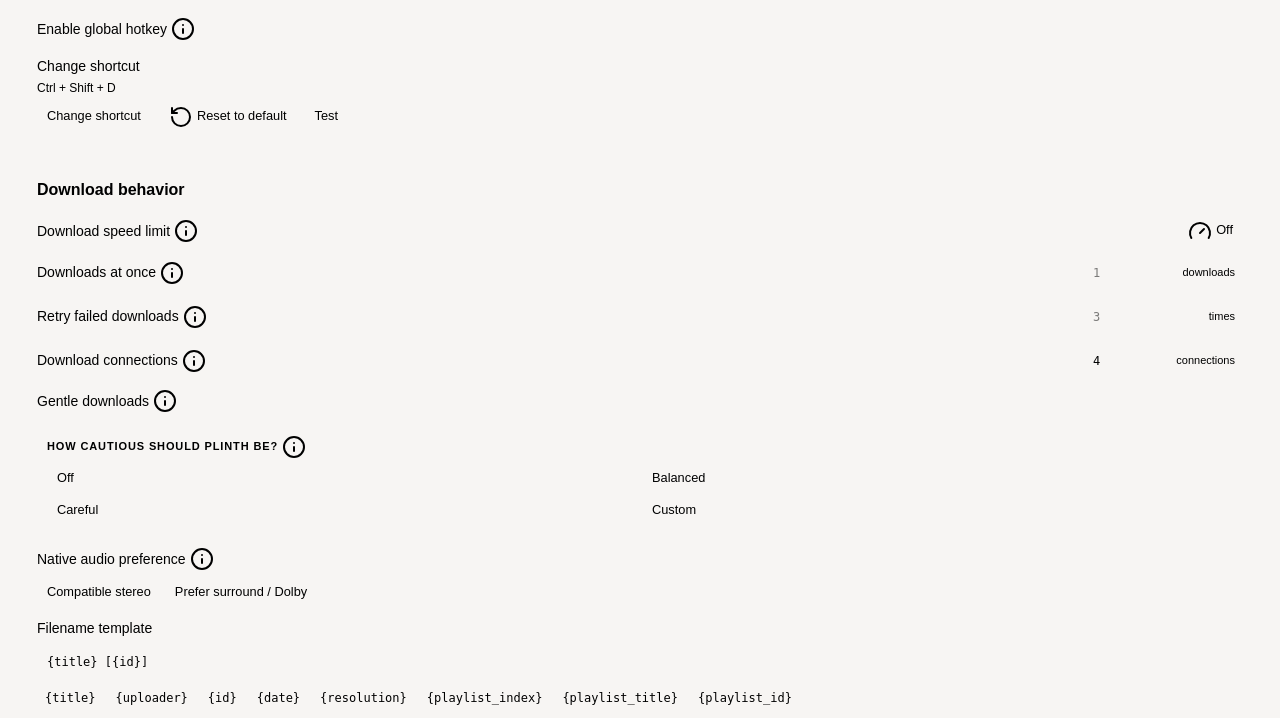
Test case: download connections setting › reverts an over-maximum value without persisting it
(page scrolled)
In the number field with test id "download-connections-input": (1130, 360) [1083,344,1176,376], type "99"
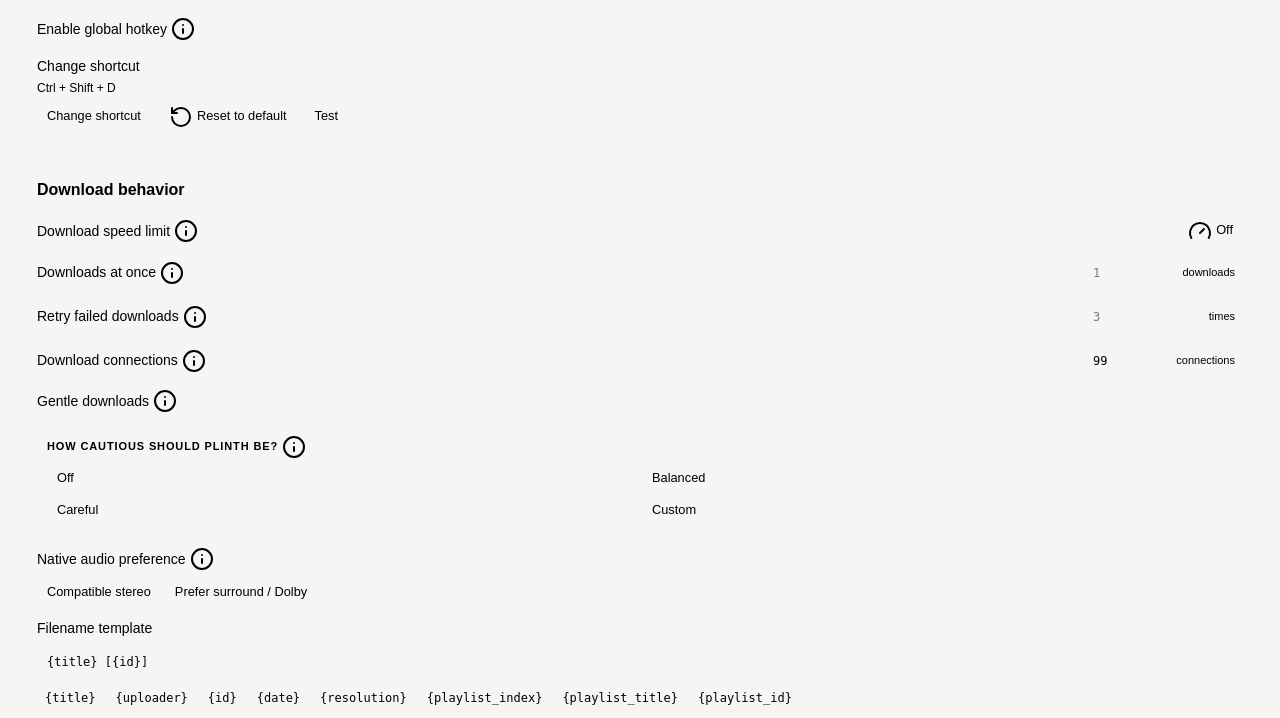
Leave the number field with test id "download-connections-input", box [1083,344,1176,376]
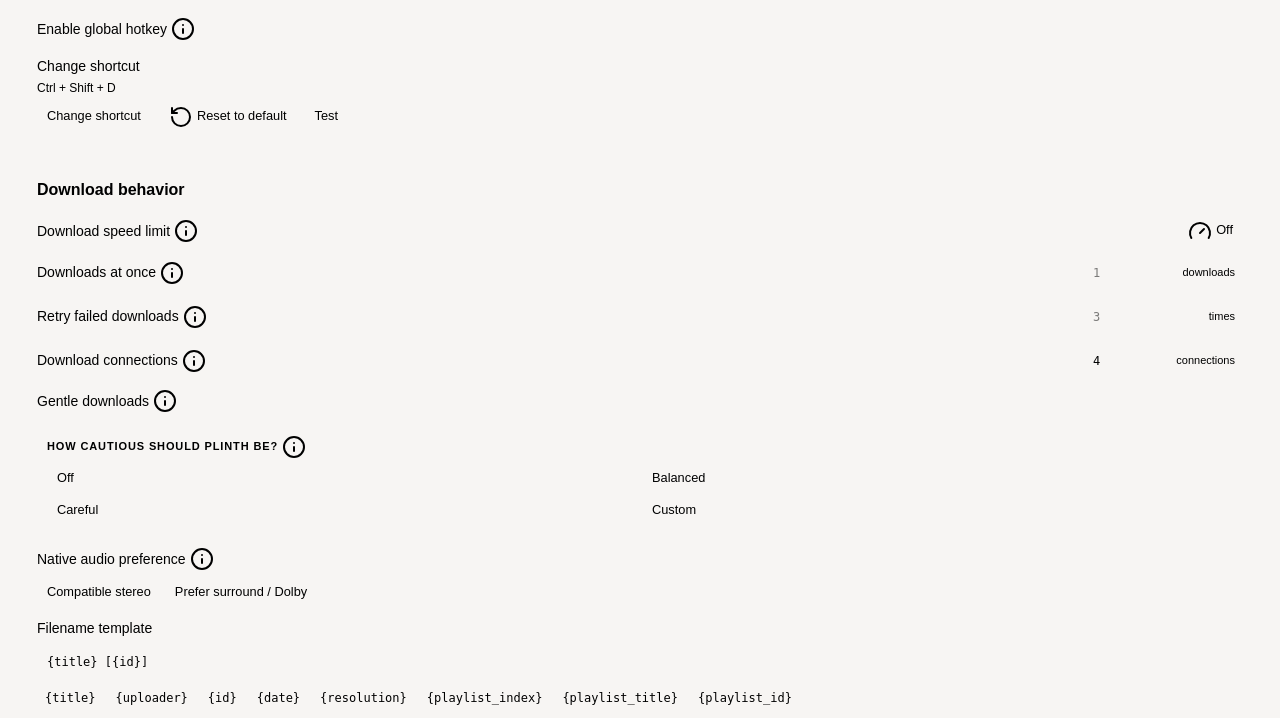
Expected: the number field with test id "download-connections-input" holds "4", [1083,344,1176,376]
